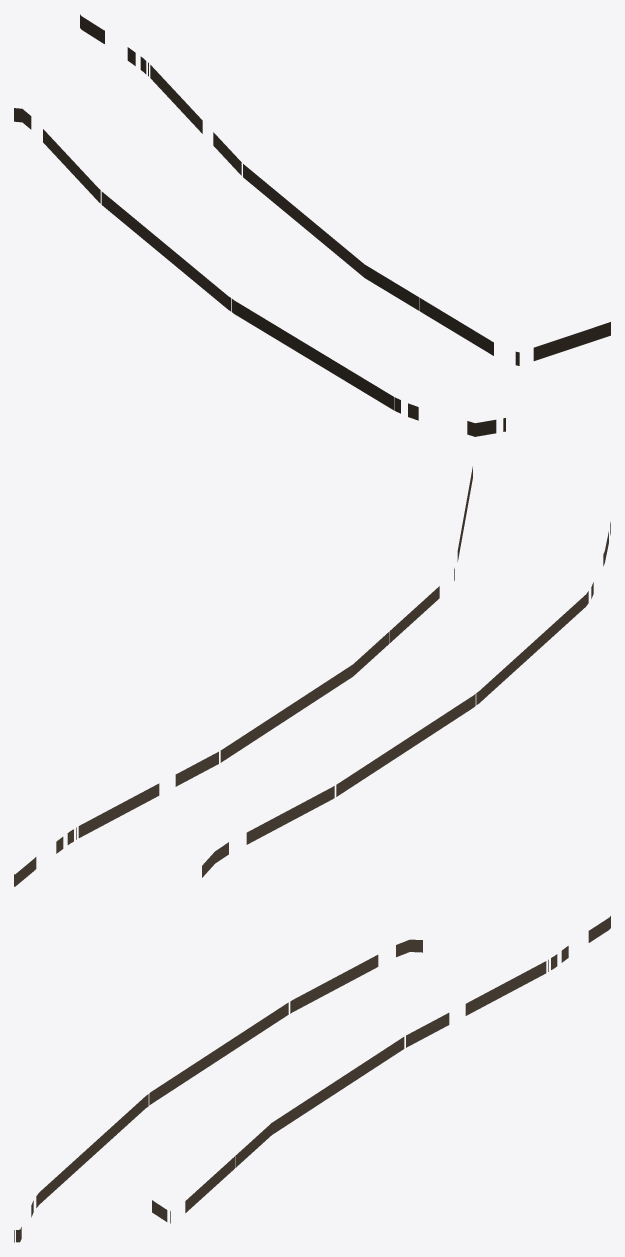
3 renders of one model, top to bottom at view 1: azimuth 30°, elevation 25°; view 2: azimuth 150°, elevation 25°; view 3: azimuth 330°, elevation 25°, orthographic. The views are drawn at different scales.
Visible parts, largest first — view 1: prototype; view 2: prototype; view 3: prototype.
Boxes of the visible parts, left/top/right/bottom form: prototype: left=14, top=14, right=610, bottom=436; prototype: left=14, top=466, right=610, bottom=886; prototype: left=14, top=916, right=610, bottom=1242.
Size of the model in its own units: 4.7 by 2.14 by 23.
